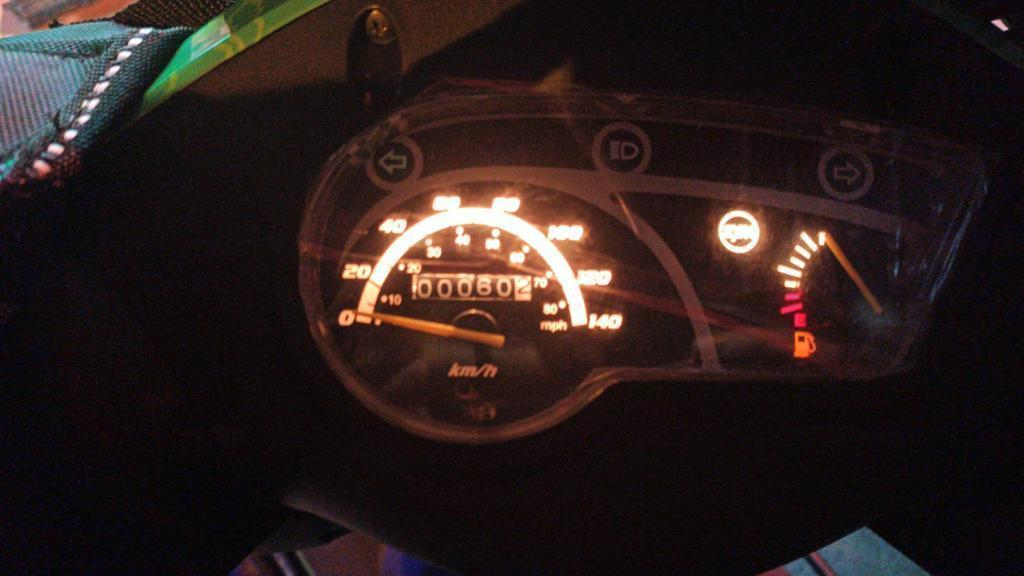0: (495, 276, 512, 297), (436, 278, 452, 298), (456, 277, 472, 297), (417, 278, 432, 298)
2: (515, 275, 532, 295)
6: (475, 276, 492, 296)
odometer: (409, 271, 533, 302)
